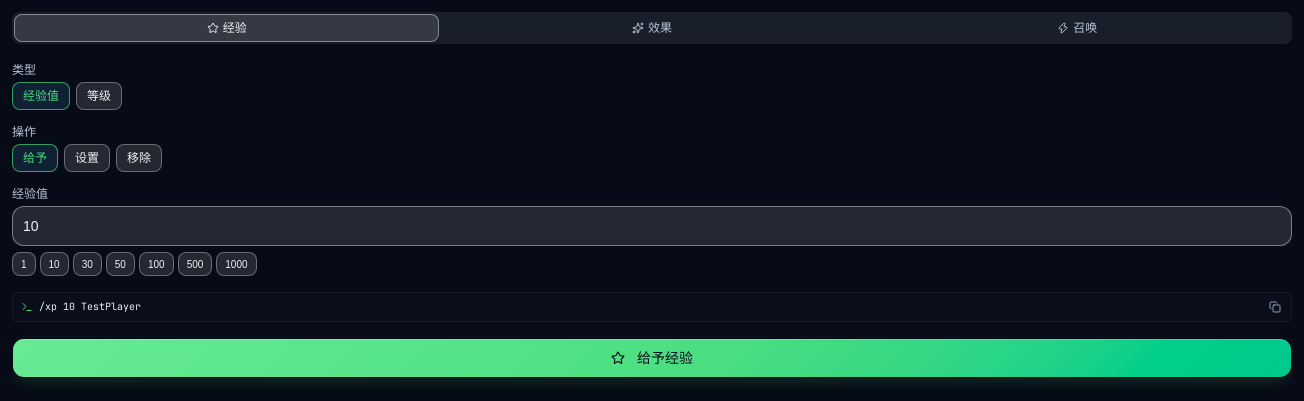
Test: ActionForms › 设置等级生成 /xp set ...L 语法
This screenshot has width=1304, height=401.
Click the radio button "等级" at (99, 96), box 76,82 -> 122,110
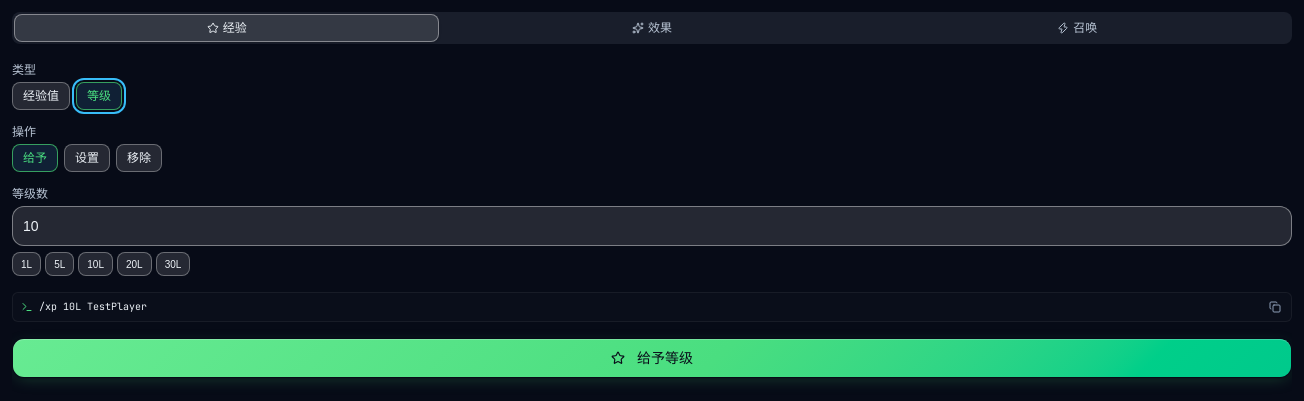
Click the radio button "设置" at (87, 158), box 64,144 -> 110,172
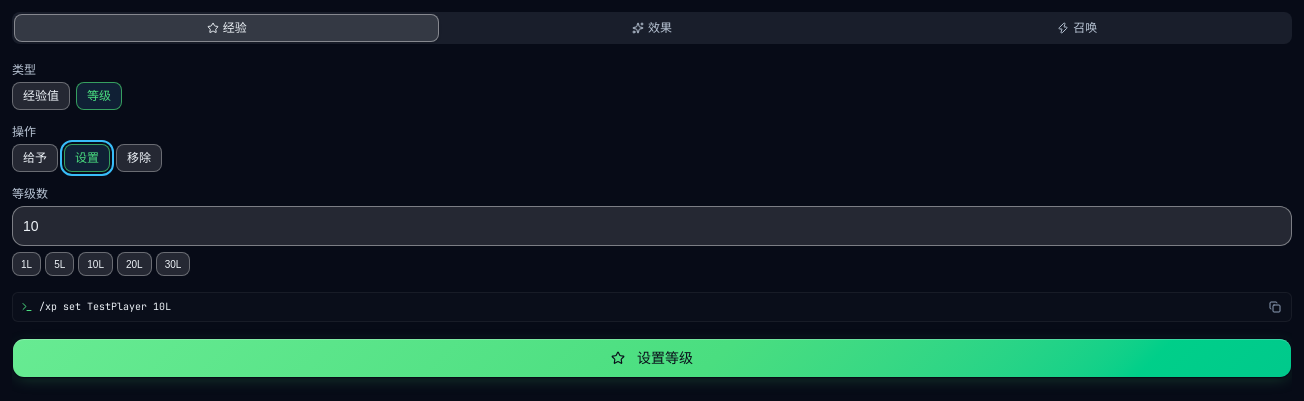
Now the text "/xp set TestPlayer 10L" is shown, box 39,300 -> 171,313
